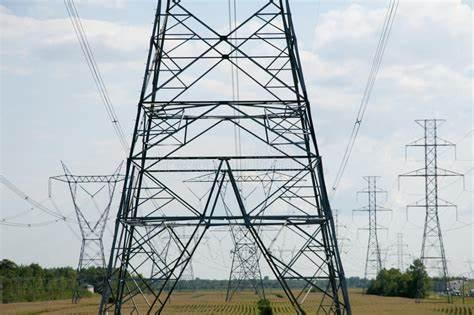power_tower: (186, 158, 311, 290), (43, 156, 131, 306), (396, 116, 469, 292), (350, 173, 396, 287)
